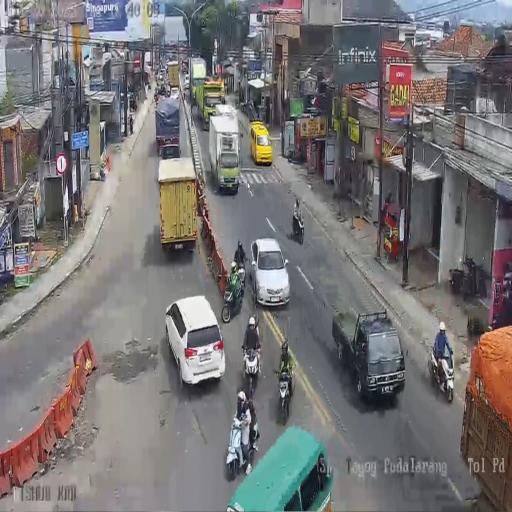car: (224, 425, 332, 510), (333, 304, 404, 404), (165, 295, 226, 387), (249, 237, 290, 308), (250, 120, 272, 166), (170, 86, 179, 101), (184, 72, 190, 91)
motorcycle: (428, 343, 454, 402), (222, 271, 244, 322), (276, 362, 294, 422), (242, 340, 261, 394)
truck: (157, 156, 199, 252), (208, 106, 240, 198), (154, 96, 180, 158), (190, 61, 206, 106), (167, 59, 180, 91)
